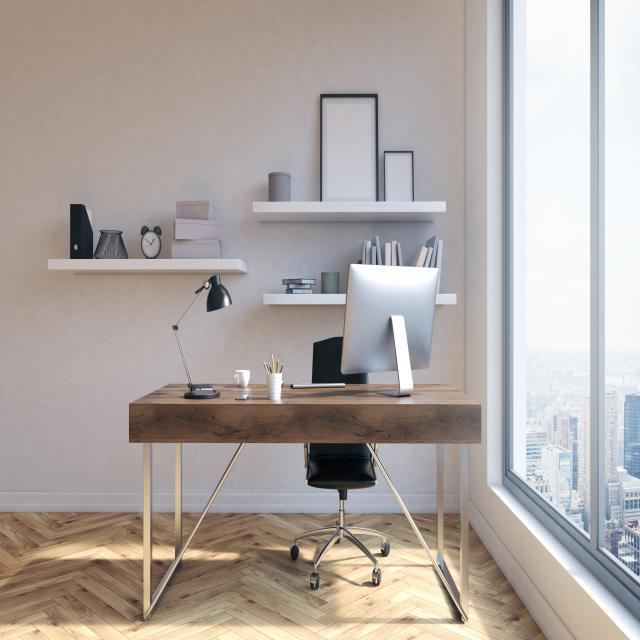table: (123, 348, 491, 494)
